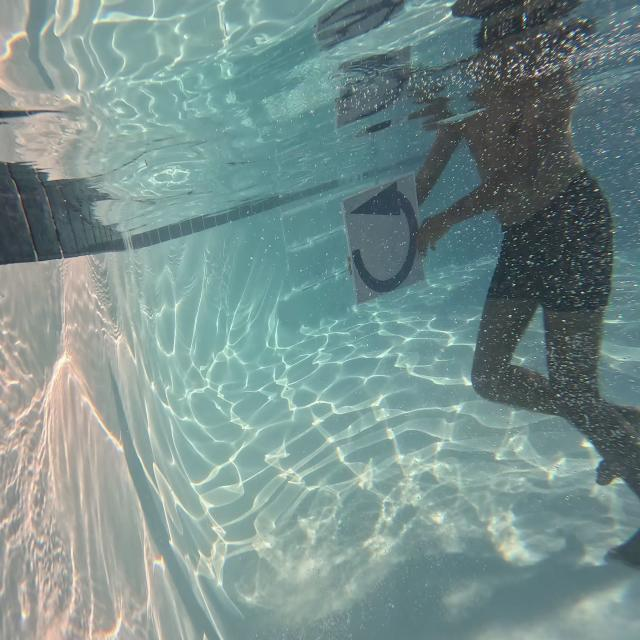blue_side: (346, 178, 418, 300)
